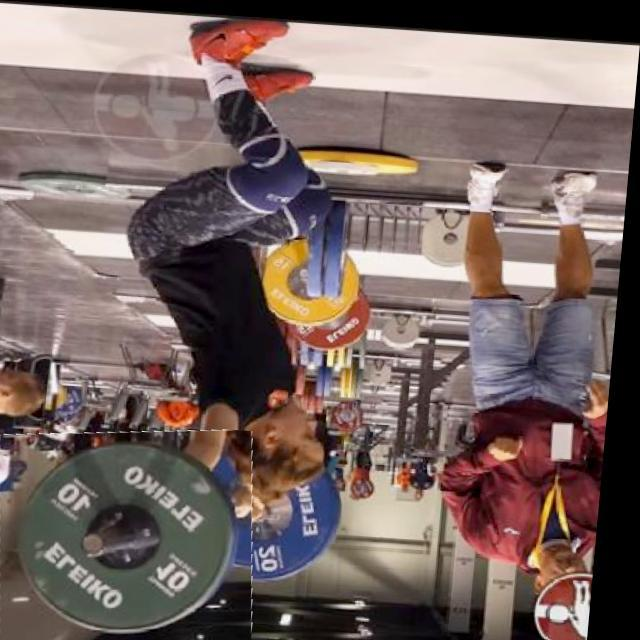barbell: (1, 420, 274, 640)
